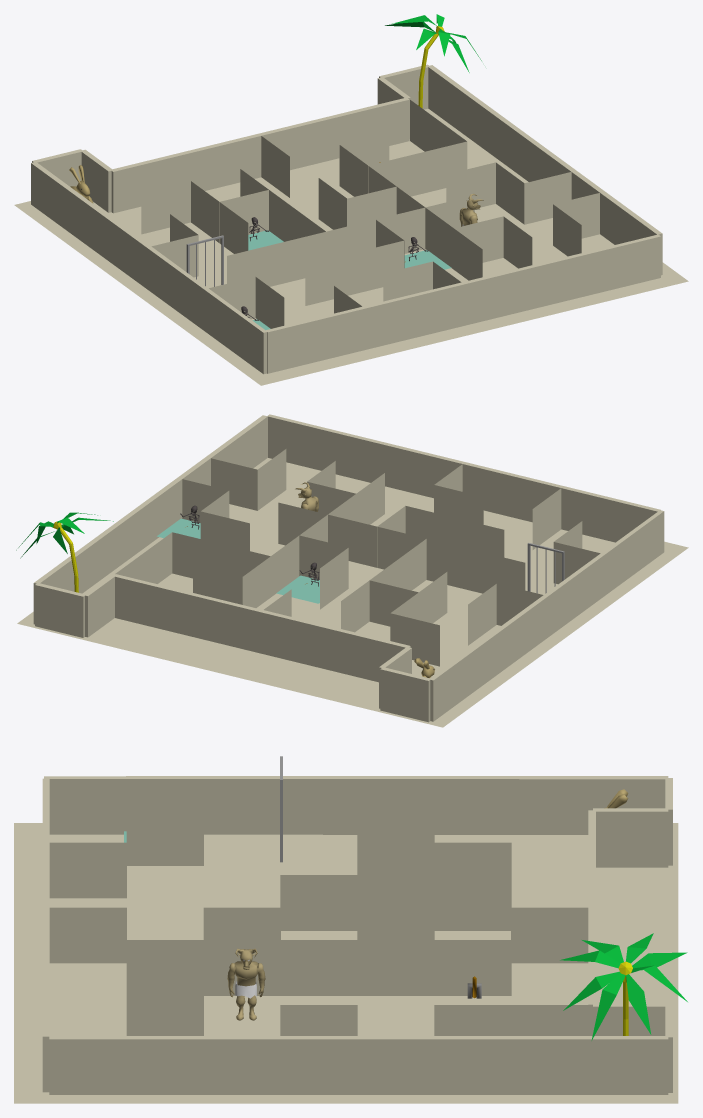
The model's file is labyrinthe.dae.
3 views of the same model, one above another, from view 1: azimuth 30°, elevation 25°; view 2: azimuth 150°, elevation 25°; view 3: azimuth 270°, elevation 25° (orthographic). The views are drawn at different scales.
Parts seen in each view (by area): view 1: Cube, palmier, solPiege_003, solPiege_001; view 2: Cube, palmier, solPiege, solPiege_004, porte; view 3: Cube, palmier, Cylinder.
Part boxes in pixels (x1,y1,x2,y2): Cube: (14,64,688,385); palmier: (385,14,481,108); solPiege_003: (404,237,451,269); solPiege_001: (248,217,283,250); Cube: (17,414,688,727); palmier: (16,512,113,592); solPiege: (276,562,319,603); solPiege_004: (157,505,200,538); porte: (527,543,564,593); Cube: (14,776,678,1103); palmier: (560,933,687,1040); Cylinder: (227,948,265,1020).
Size of the model in its own units: 88.93 by 87.77 by 21.35.
